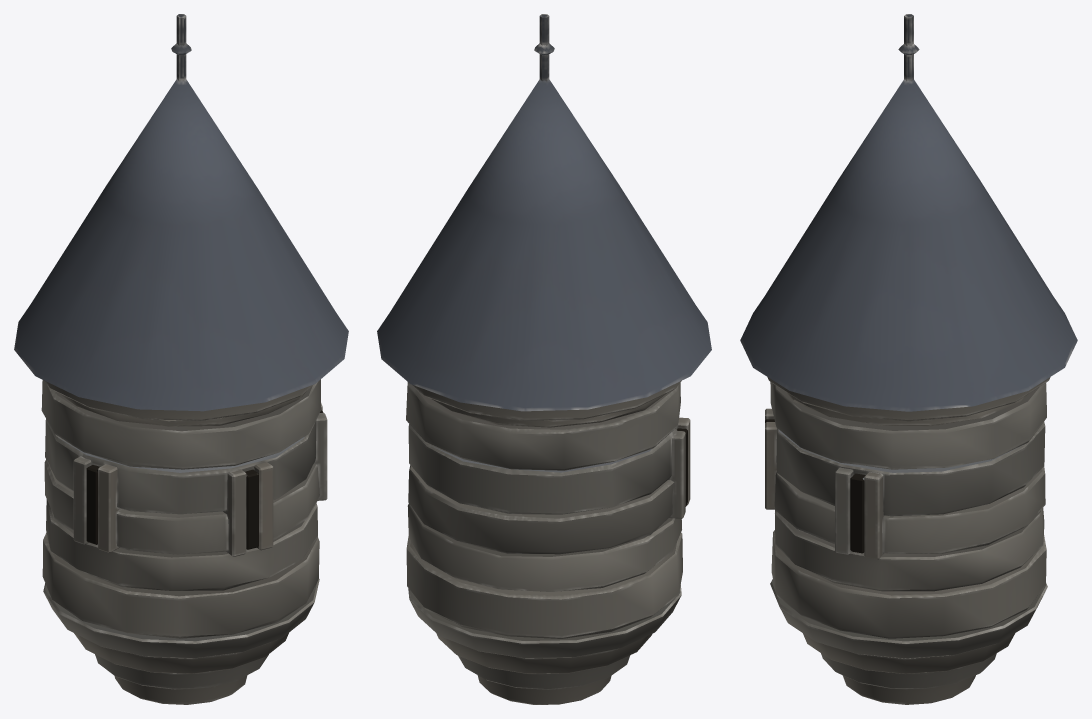
Rendered from gallows_turret.glb.
The picture shows the model from 3 angles, left to right: view 1: azimuth 30°, elevation 25°; view 2: azimuth 150°, elevation 25°; view 3: azimuth 270°, elevation 25°; orthographic projection.
Visible parts, largest first — view 1: gallows_turret; view 2: gallows_turret; view 3: gallows_turret.
Part boxes in pixels (<box>): gallows_turret: <box>14,14,348,704</box>; gallows_turret: <box>377,14,711,704</box>; gallows_turret: <box>740,14,1077,704</box>.
Size of the model in its own units: 4.1 by 8.87 by 4.1.
1 material, 1 textured.
